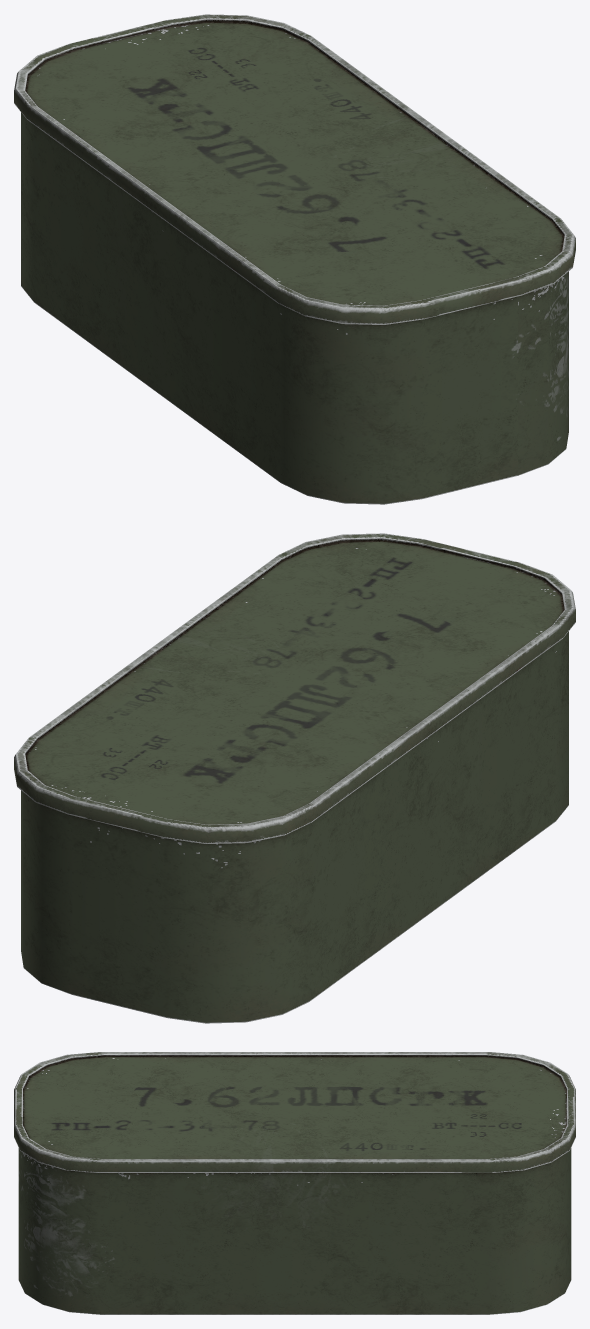
File: Zinc.glb
The picture shows the model from 3 angles, top to bottom: view 1: azimuth 30°, elevation 25°; view 2: azimuth 150°, elevation 25°; view 3: azimuth 270°, elevation 25°; orthographic projection. The views are drawn at different scales.
Visible parts, largest first — view 1: Cube; view 2: Cube; view 3: Cube.
Boxes of the visible parts, bbox=[...] form: Cube: bbox=[14, 14, 575, 504]; Cube: bbox=[14, 533, 575, 1023]; Cube: bbox=[14, 1052, 575, 1314].
Size of the model in its own units: 122 by 80.64 by 264.
Materials: 1 (1 with a texture image).
